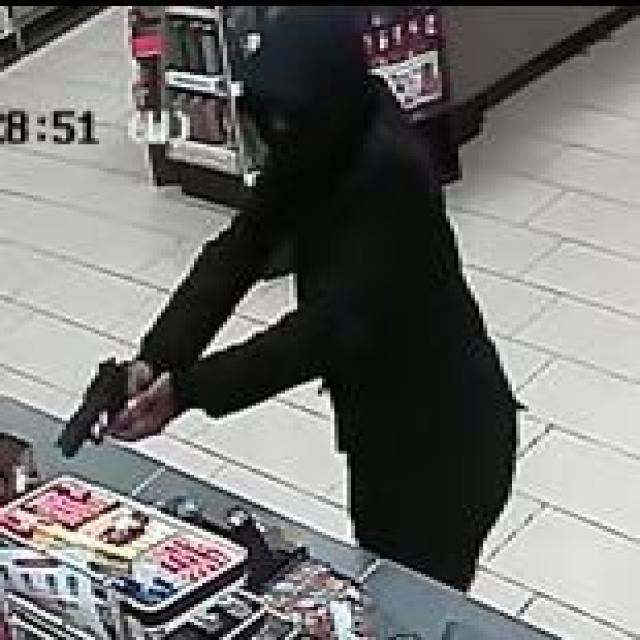Gun: (36, 348, 177, 468)
